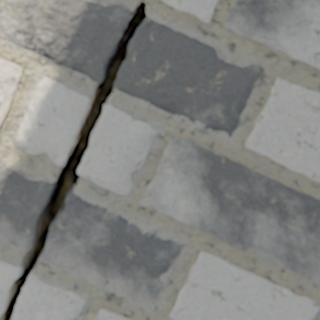brick: (140, 134, 319, 283), (170, 250, 319, 319), (245, 77, 319, 181), (225, 0, 319, 68), (0, 58, 23, 127), (161, 0, 217, 22), (95, 307, 131, 319)
broken_brick: (115, 17, 262, 136), (41, 190, 183, 308), (0, 0, 131, 81), (79, 104, 155, 194), (13, 77, 90, 165), (0, 164, 54, 249), (13, 272, 85, 319), (0, 259, 21, 314)
crack: (0, 0, 147, 319), (42, 150, 50, 156), (128, 170, 133, 177)
